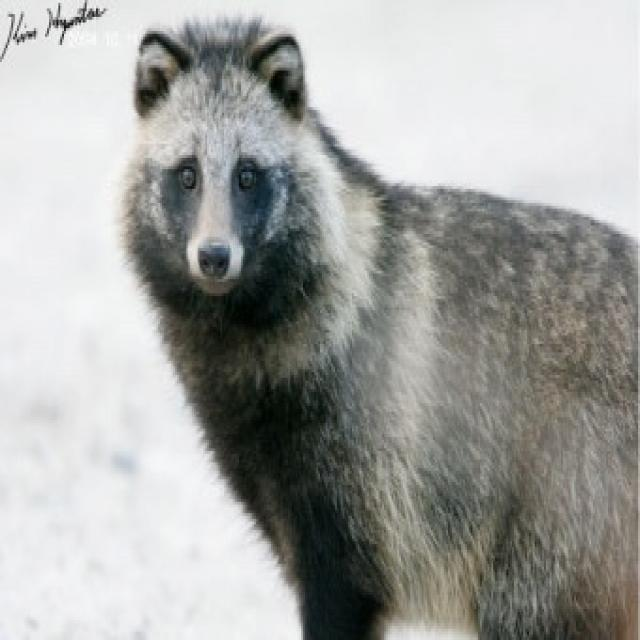racoon: (129, 12, 640, 640)
